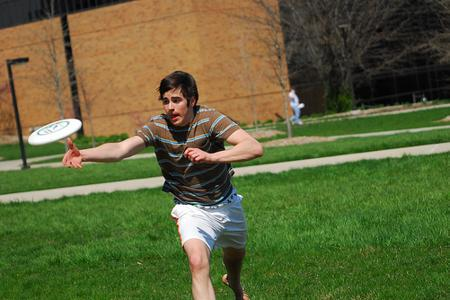person: (62, 72, 264, 300)
